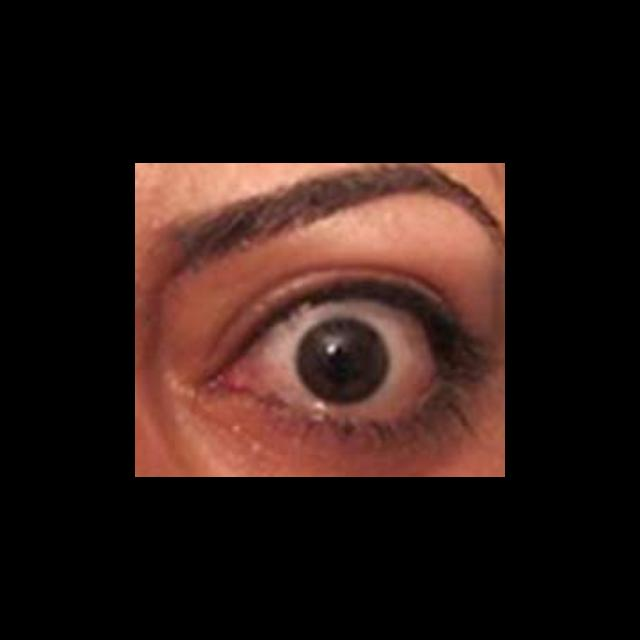eye: (258, 296, 437, 426)
iris: (298, 319, 387, 405)
